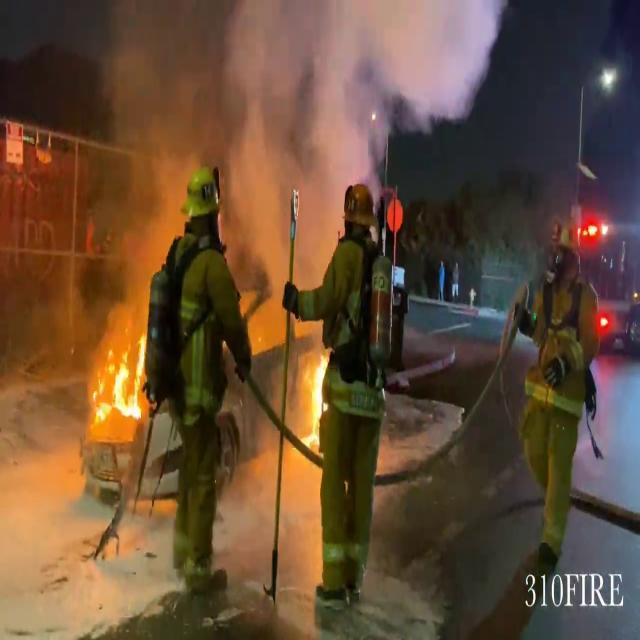Fire: (94, 329, 148, 427), (303, 348, 331, 440)
Smoke: (82, 0, 386, 294)
